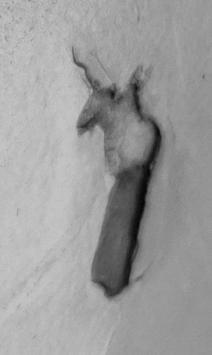paint-off: (1, 1, 212, 355)
